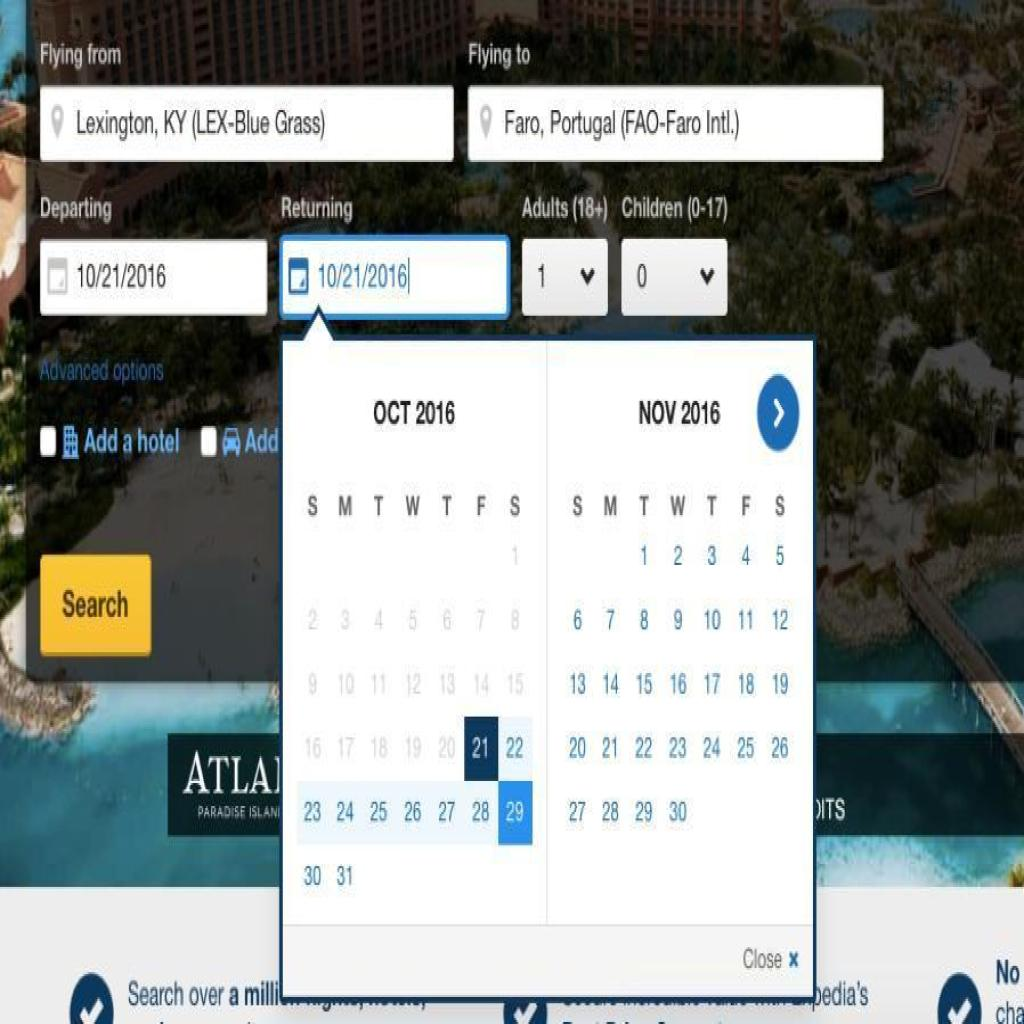button: (38, 552, 152, 654)
checkbox: (36, 424, 60, 461), (199, 424, 219, 459)
dropdown: (622, 239, 728, 316), (522, 239, 609, 318)
input: (468, 85, 882, 164), (41, 87, 455, 162), (279, 237, 510, 320), (41, 239, 267, 316)
label: (35, 351, 168, 391), (82, 420, 181, 459), (622, 191, 726, 226), (520, 189, 610, 226), (280, 191, 357, 231), (39, 37, 122, 73), (38, 196, 114, 228), (468, 39, 534, 75)
